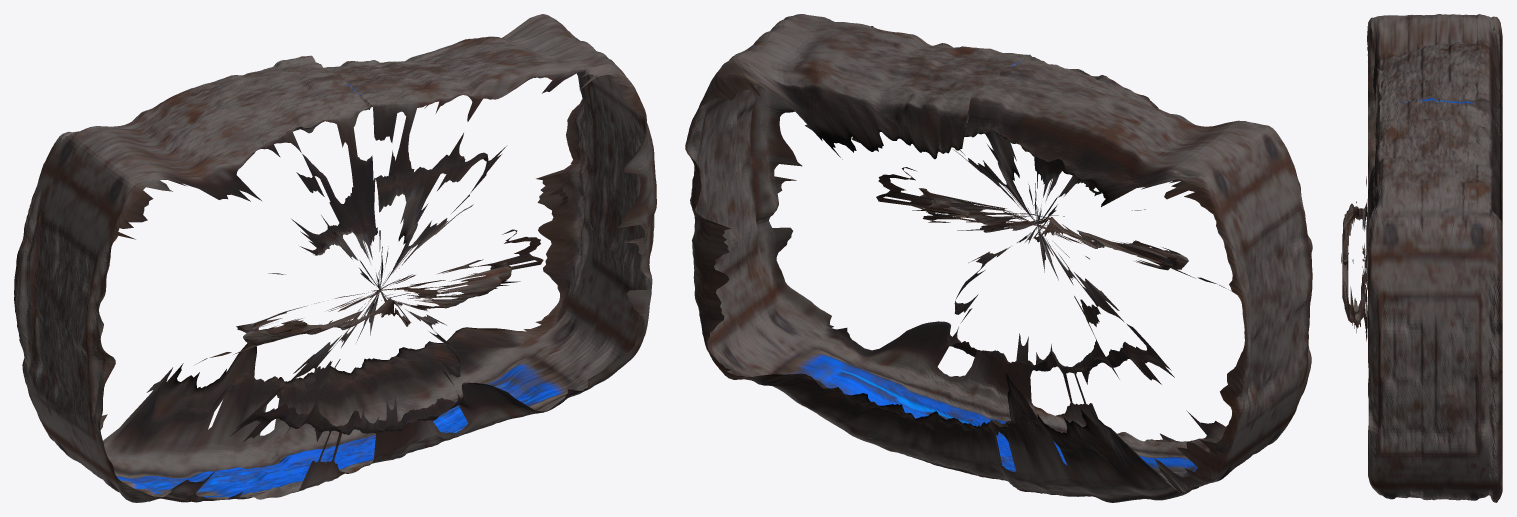
3 renders of one model, left to right at view 1: azimuth 30°, elevation 25°; view 2: azimuth 150°, elevation 25°; view 3: azimuth 270°, elevation 25°, orthographic. The views are drawn at different scales.
Parts seen in each view (by area): view 1: geometry_0; view 2: geometry_0; view 3: geometry_0.
Part boxes in pixels (box(x1,y1,x2,y2)): geometry_0: box(14, 14, 656, 502); geometry_0: box(685, 14, 1312, 502); geometry_0: box(1341, 14, 1502, 502).
Size of the model in its own units: 1.99 by 1.33 by 0.5518.
1 material, 1 textured.
